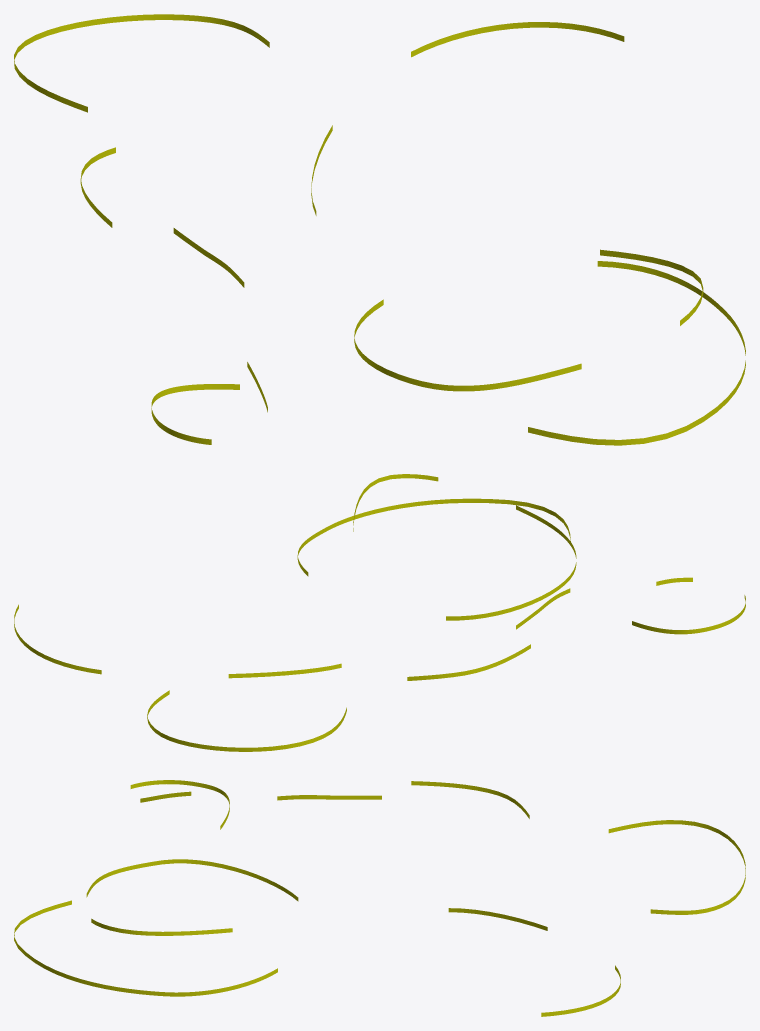
Rendered from Arrows.fbx.
The picture shows the model from 3 angles, top to bottom: view 1: azimuth 30°, elevation 25°; view 2: azimuth 150°, elevation 25°; view 3: azimuth 270°, elevation 25°; orthographic projection. The views are drawn at different scales.
Visible parts, largest first — view 1: Arrow_8, Arrow_3, Arrow_7, Arrow_4, Arrow_9, Arrow_6; view 2: Arrow_8, Arrow_3, Arrow_7, Arrow_2, Arrow_9, Arrow_5, Arrow_4; view 3: Arrow_8, Arrow_3, Arrow_7, Arrow_6, Arrow_2, Arrow_9, Arrow_1, Arrow_5, Arrow_4.
Part boxes in pixels (x1=…): Arrow_8: x1=528, y1=261, x2=745, y2=445; Arrow_3: x1=14, y1=14, x2=269, y2=112; Arrow_7: x1=354, y1=299, x2=581, y2=391; Arrow_4: x1=411, y1=22, x2=624, y2=57; Arrow_9: x1=151, y1=384, x2=239, y2=444; Arrow_6: x1=600, y1=249, x2=703, y2=325; Arrow_8: x1=297, y1=498, x2=570, y2=576; Arrow_3: x1=147, y1=690, x2=346, y2=751; Arrow_7: x1=446, y1=505, x2=576, y2=620; Arrow_2: x1=407, y1=644, x2=530, y2=680; Arrow_9: x1=632, y1=595, x2=745, y2=634; Arrow_5: x1=228, y1=663, x2=341, y2=678; Arrow_4: x1=14, y1=604, x2=101, y2=674; Arrow_8: x1=14, y1=900, x2=277, y2=996; Arrow_3: x1=608, y1=820, x2=745, y2=914; Arrow_7: x1=86, y1=859, x2=298, y2=901; Arrow_6: x1=91, y1=918, x2=232, y2=935; Arrow_2: x1=411, y1=781, x2=529, y2=818; Arrow_9: x1=130, y1=780, x2=229, y2=829; Arrow_1: x1=277, y1=795, x2=381, y2=800; Arrow_5: x1=448, y1=908, x2=547, y2=930; Arrow_4: x1=541, y1=965, x2=620, y2=1016.
Bounding box in the file's own units: 10657 × 1207 × 13056.
